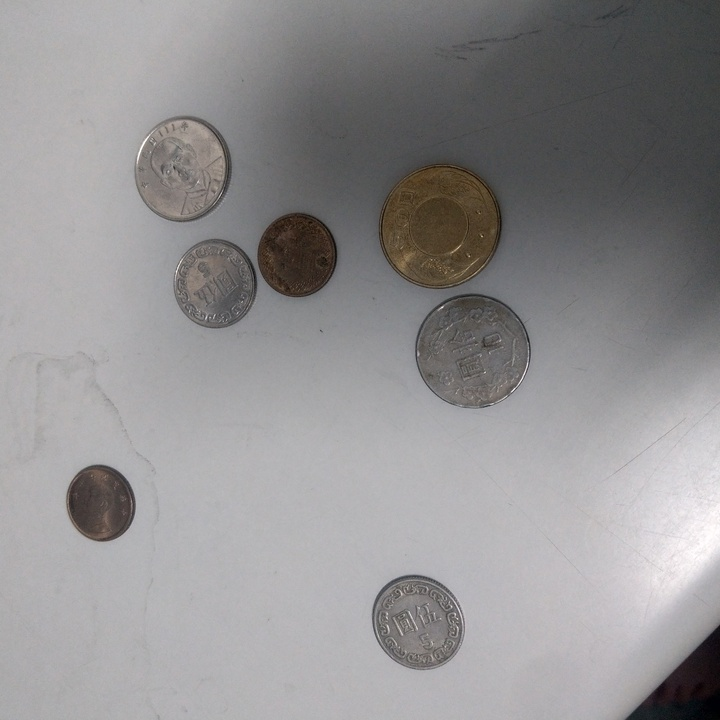1 dollar: (256, 211, 340, 297), (63, 464, 141, 547)
10 dollar: (415, 292, 536, 412), (131, 117, 239, 228)
5 dollar: (371, 571, 471, 673), (173, 239, 262, 333)
50 dollar: (378, 165, 506, 292)
